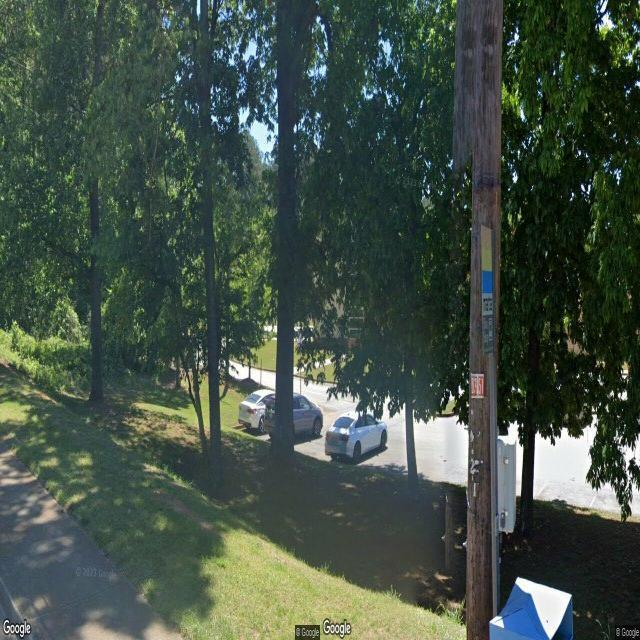trash_can: (489, 577, 574, 640)
